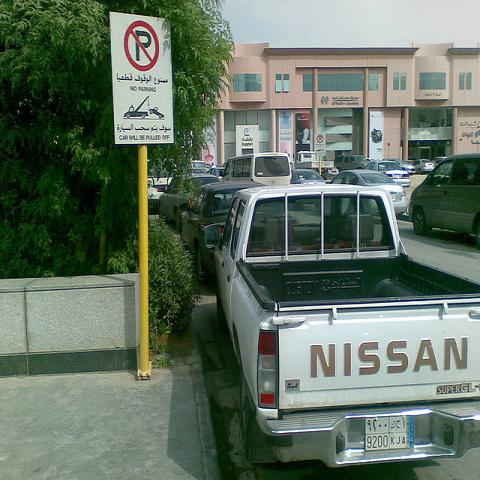car: (178, 176, 272, 278), (408, 154, 479, 246), (327, 168, 407, 218), (158, 173, 220, 237), (293, 160, 433, 184), (222, 153, 294, 185), (363, 160, 412, 188), (147, 177, 174, 200), (333, 154, 368, 171), (384, 159, 417, 175), (207, 167, 226, 182), (184, 167, 208, 175), (432, 158, 446, 168)
truck: (207, 183, 479, 470), (382, 158, 416, 174)
